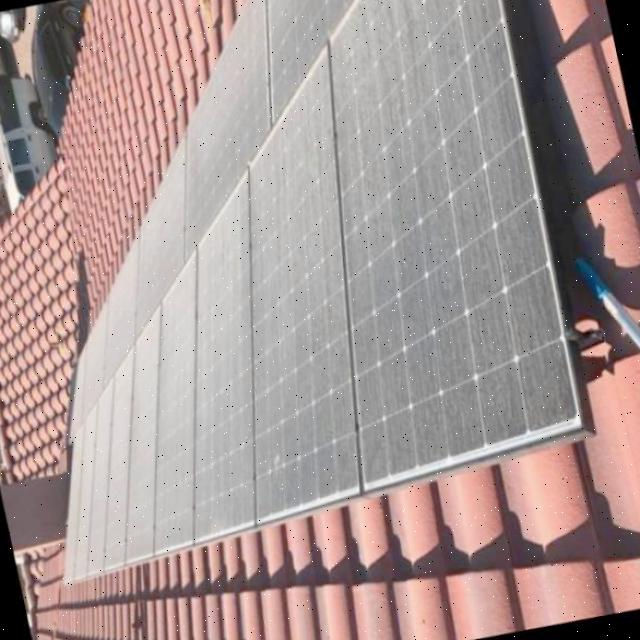Anomaly Solar Panel: (64, 0, 583, 584)
Surface Contaminant: (66, 0, 517, 532)
